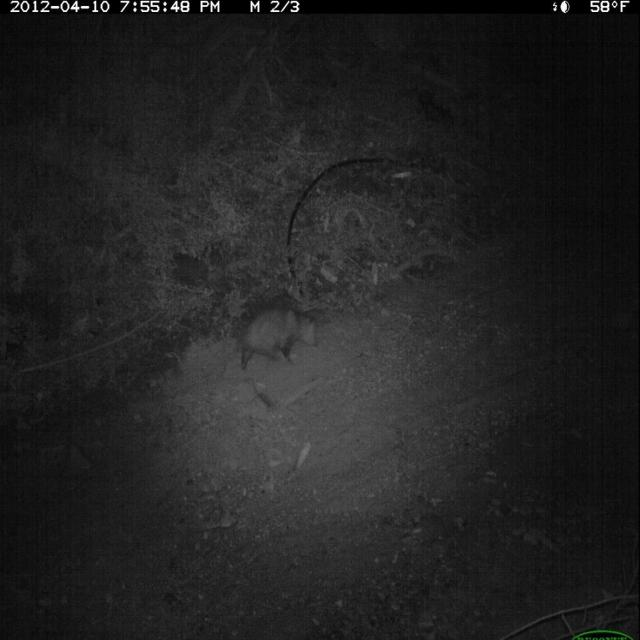opossum: (225, 289, 329, 380)
